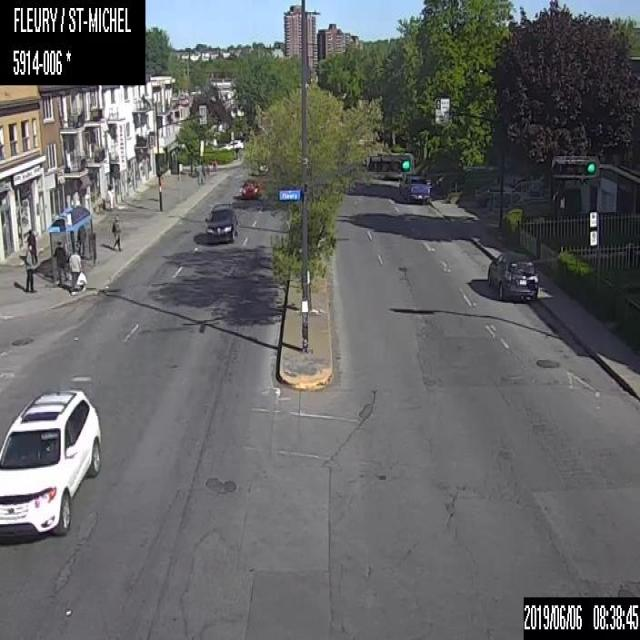pedestrian: (66, 247, 88, 295), (51, 238, 70, 288), (24, 245, 38, 292), (108, 213, 124, 252), (24, 227, 38, 266), (75, 221, 87, 260)
vehicle: (0, 385, 101, 544), (486, 250, 538, 302), (397, 168, 431, 203), (204, 205, 236, 242), (238, 182, 261, 202)
